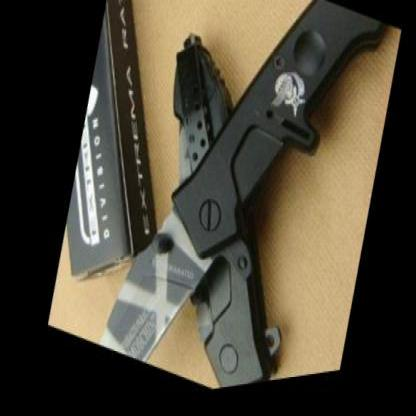knife: (69, 167, 224, 393)
